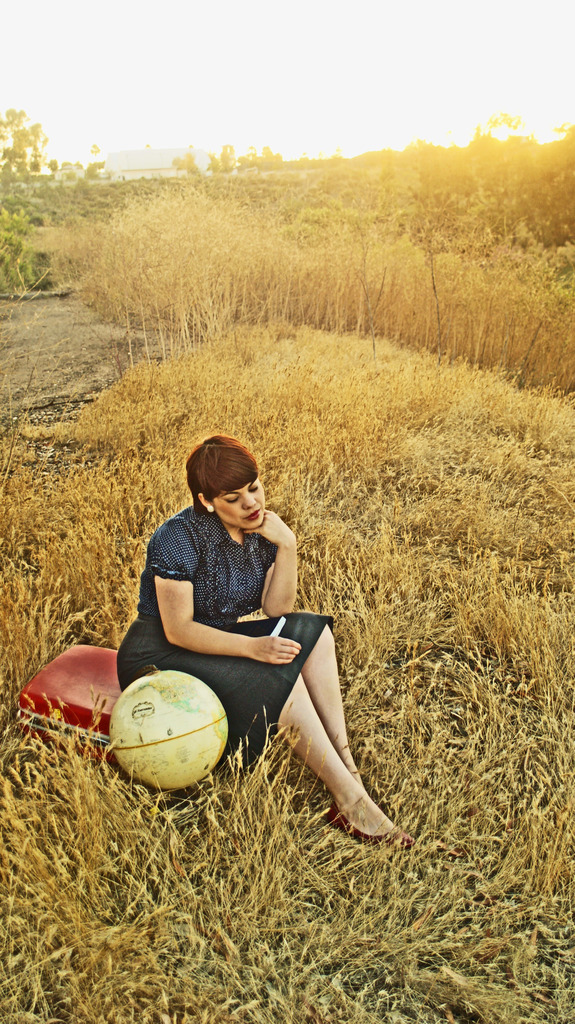Ball: (113, 673, 226, 794)
